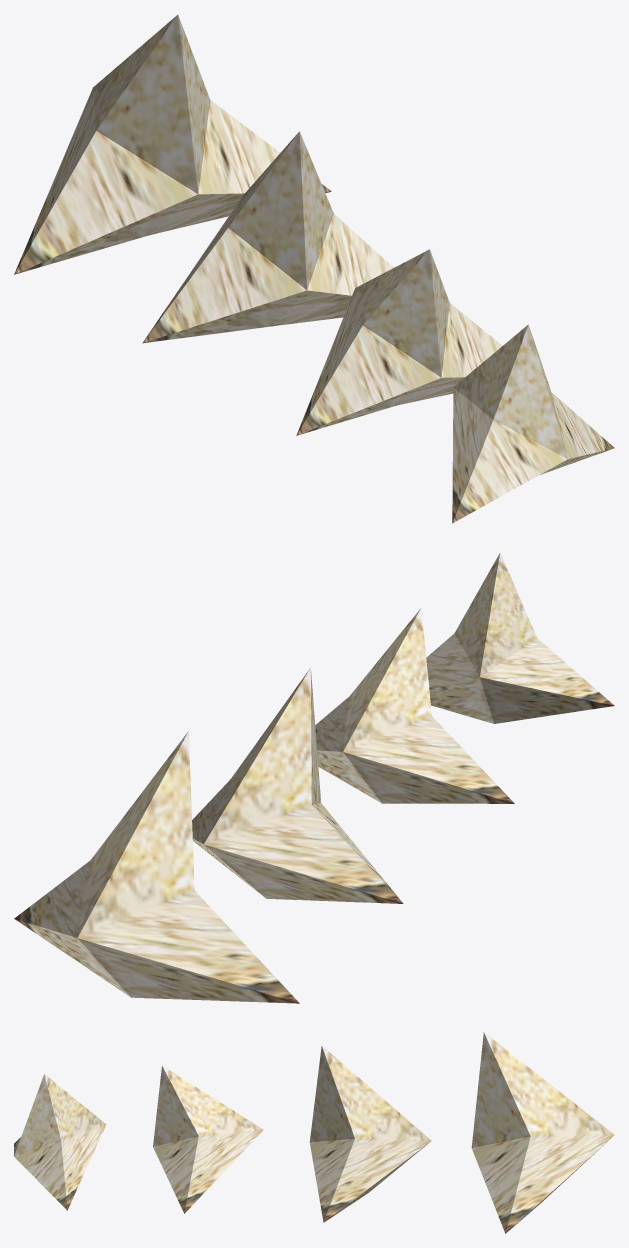
Rendered from poi_tato_skel_grtr_krayt_spine_s01_l2.fbx.
3 views of the same model, one above another, from view 1: azimuth 30°, elevation 25°; view 2: azimuth 150°, elevation 25°; view 3: azimuth 270°, elevation 25° (orthographic). The views are drawn at different scales.
Visible parts, largest first — view 1: mesh_node; view 2: mesh_node; view 3: mesh_node.
Part boxes in pixels (x1,y1,x2,y2): mesh_node: [14, 15, 614, 523]; mesh_node: [14, 552, 614, 1003]; mesh_node: [14, 1032, 614, 1233].
Bounding box in the file's own units: 1.36 × 1.07 × 3.54.
Materials: 1 (1 with a texture image).
